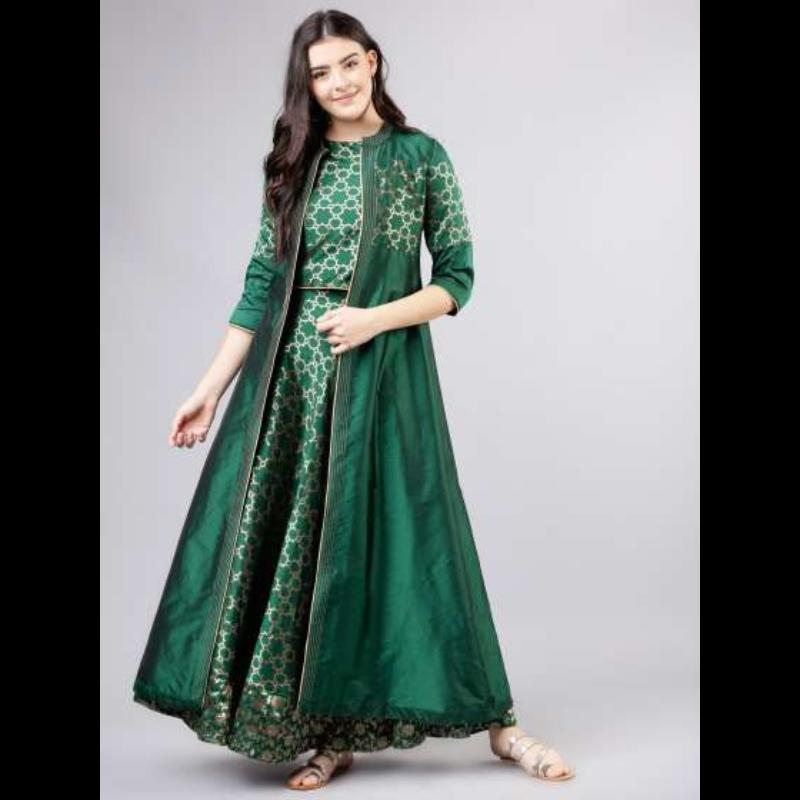Maxi: (137, 110, 510, 718)
